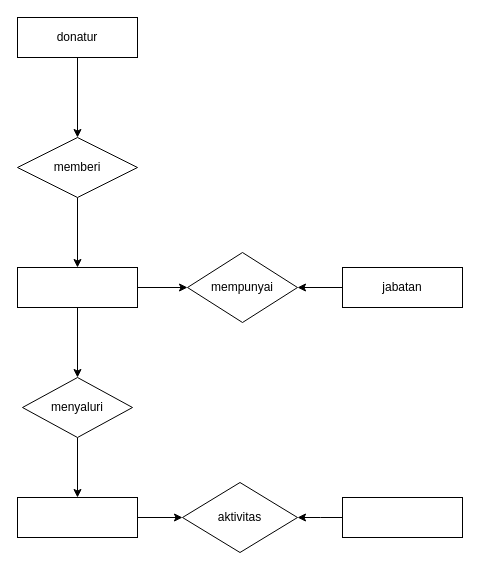
This 480x570 diagram has some shape labels left out. Each missing label, with the centre of its shape:
anak asuh: point (77, 517)
kegiatan: point (402, 517)
pengurus: point (77, 287)
